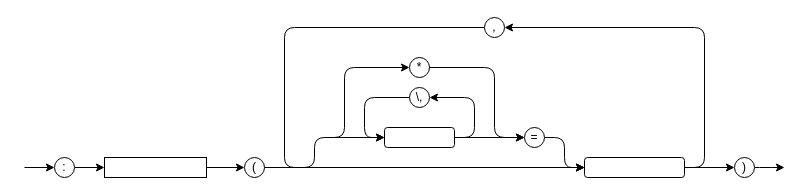
Some shapes in this 810 by 195 pixel diagram are drawn without their labels. Here are the shapes that lost their labels. From the top down, the box of each, then its label:
(384, 126, 454, 148): name
(104, 156, 206, 178): construct
(584, 156, 684, 178): expression
